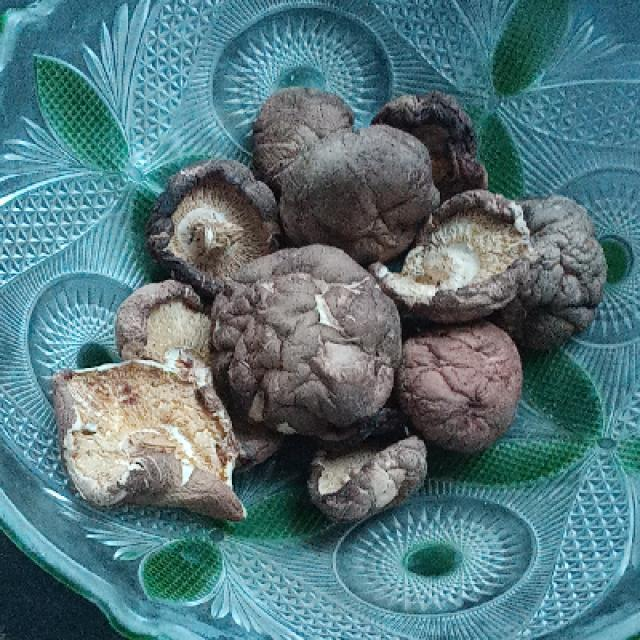Lentinus edodes: (210, 244, 411, 435), (52, 354, 248, 523), (358, 185, 520, 319), (278, 127, 440, 256), (395, 329, 524, 462), (149, 158, 272, 286), (517, 187, 607, 313), (313, 441, 432, 516)
